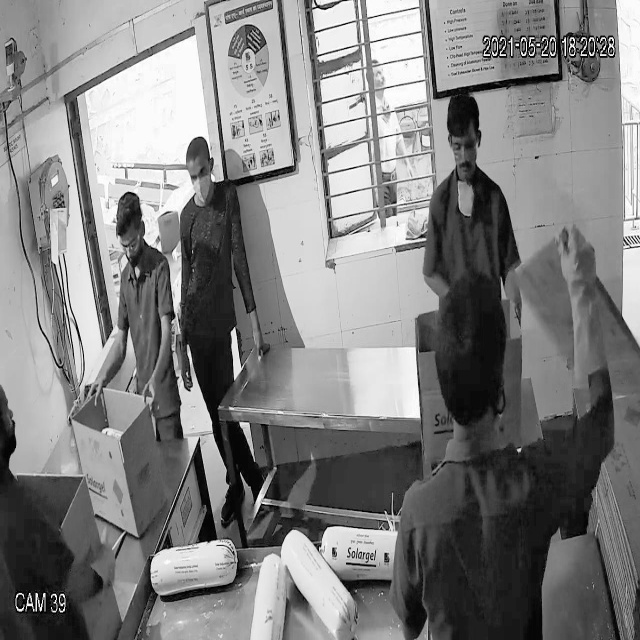Gafas: (448, 133, 480, 157)
Sin_gafas: (188, 163, 211, 181)
